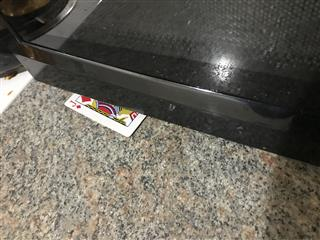JackOfDiamonds: (62, 92, 147, 137)
